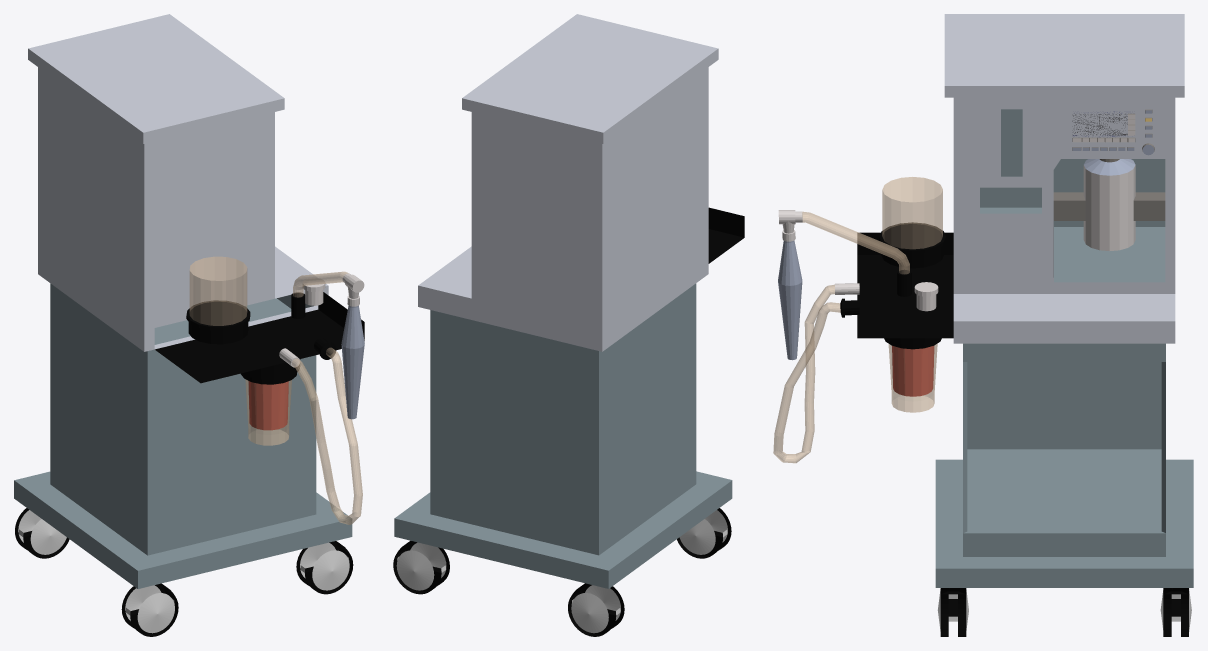
Rendered from NarkosApparat.fbx.
3 renders of one model, left to right at view 1: azimuth 30°, elevation 25°; view 2: azimuth 150°, elevation 25°; view 3: azimuth 270°, elevation 25°, orthographic. The views are drawn at different scales.
Parts seen in each view (by area): view 1: Cube; view 2: Cube; view 3: Cube.
Boxes of the visible parts, <box> form: Cube: <box>14,14,364,636</box>; Cube: <box>393,14,744,636</box>; Cube: <box>773,14,1193,636</box>.
Size of the model in its own units: 208 by 456 by 330.
